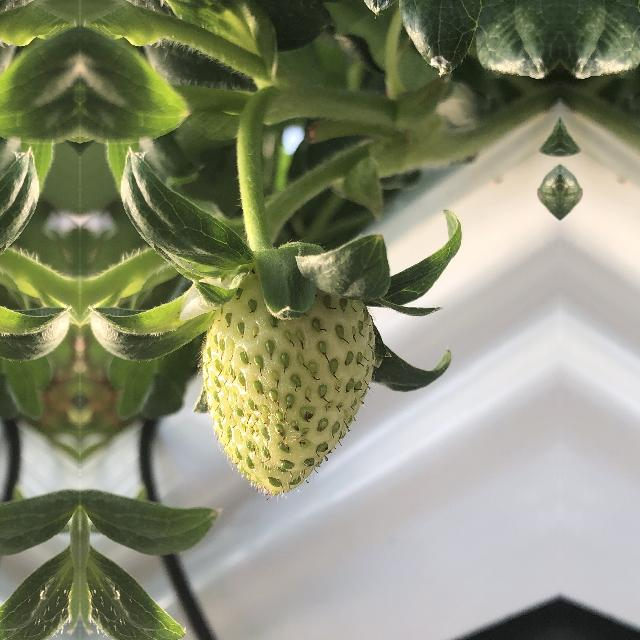Health_25: (193, 270, 391, 504)
